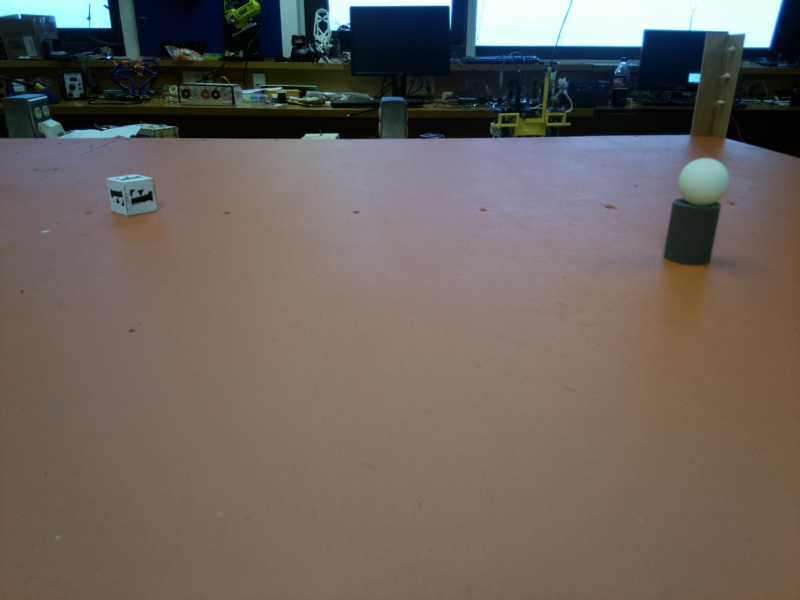blockF: (107, 165, 154, 219)
corner: (693, 33, 745, 132)
obstacle: (672, 151, 733, 259)
